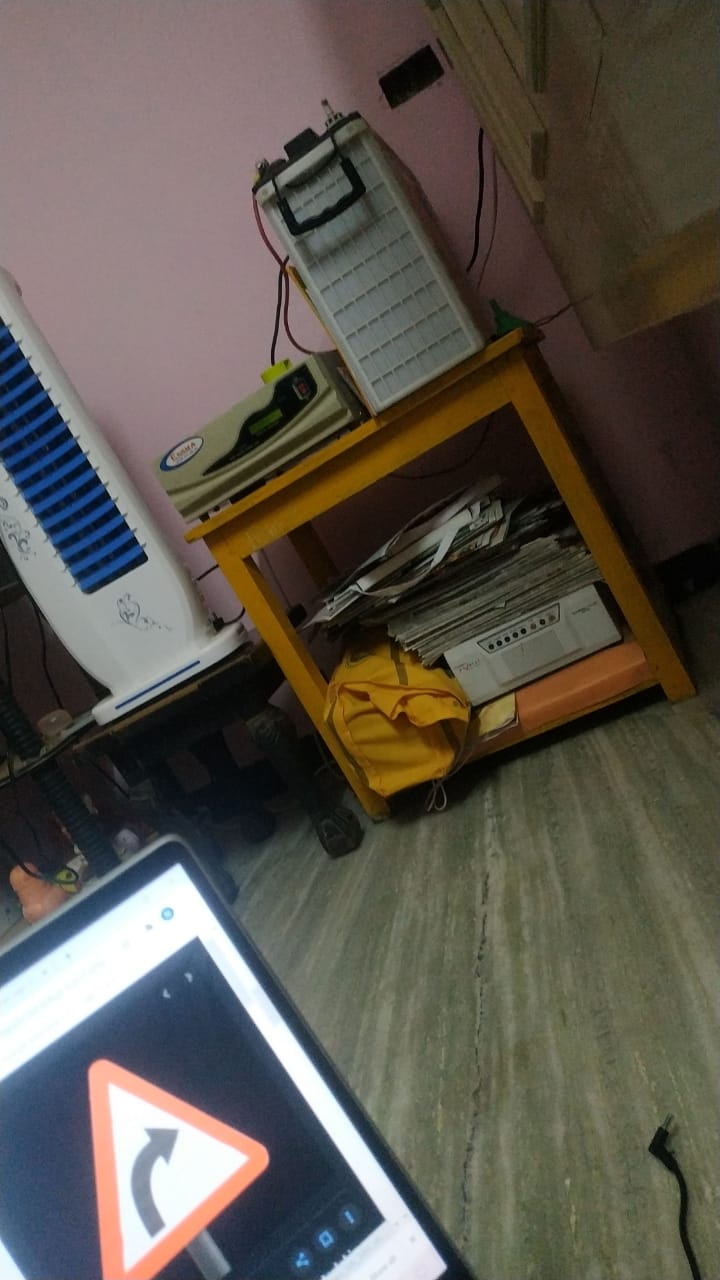RIGHT CURVE: (70, 1019, 305, 1280)
